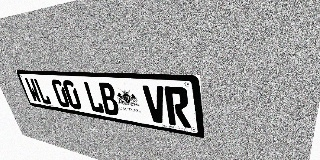0: (61, 80, 82, 110), (50, 79, 70, 108)
B: (97, 82, 120, 116)
L: (82, 81, 105, 114), (33, 78, 52, 105)
R: (164, 86, 191, 128)
V: (142, 85, 168, 124)
W: (24, 78, 42, 103)
